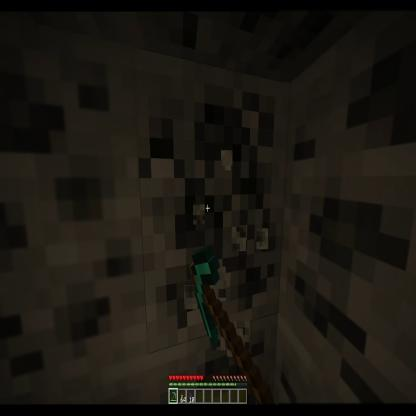coal ore: (279, 1, 416, 412), (0, 38, 149, 384), (139, 48, 283, 333)
